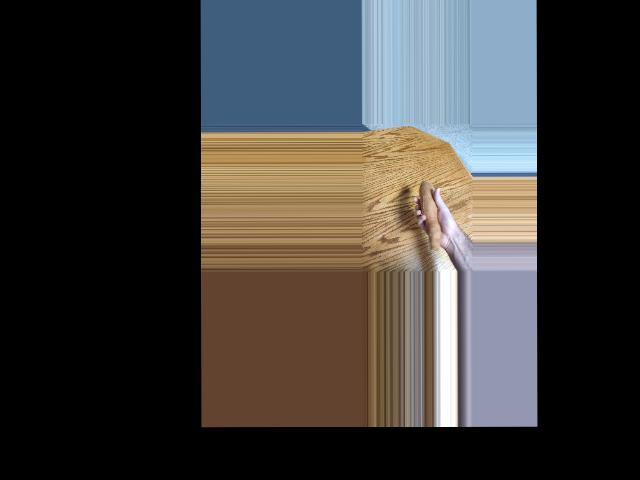sweet_potato: (418, 179, 447, 257)
